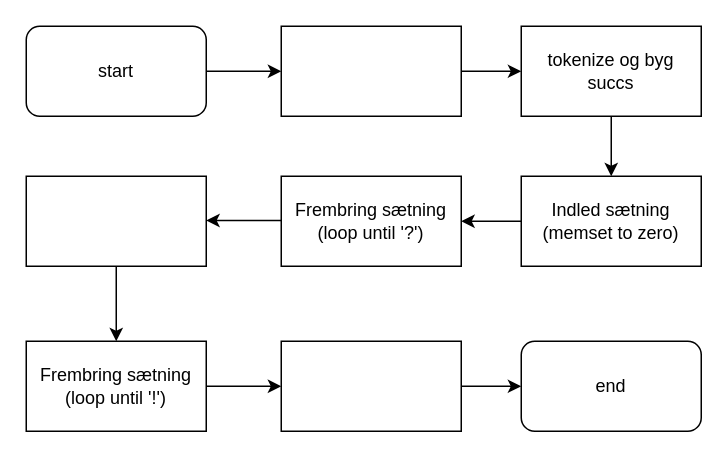
Some shapes in this 728 by 458 pixel diagram are drawn without their labels. The box of each missing label's shape, as (x1, y1, x2, y2) in pixels:
print exclamation sent: (280, 340, 461, 431)
Print question sentence: (25, 175, 206, 266)
Udskift non-printables: (280, 25, 461, 116)
